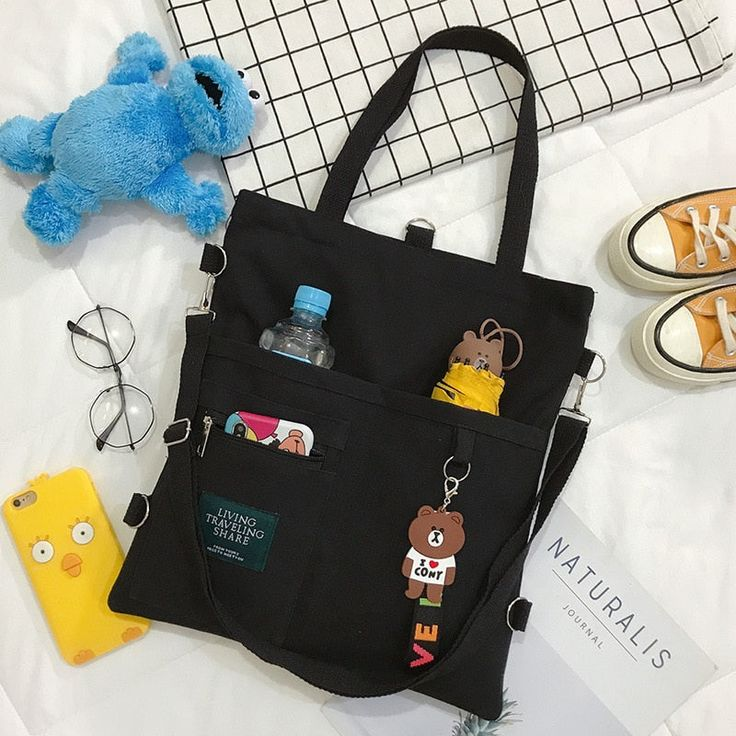nylon: (108, 26, 594, 724)
